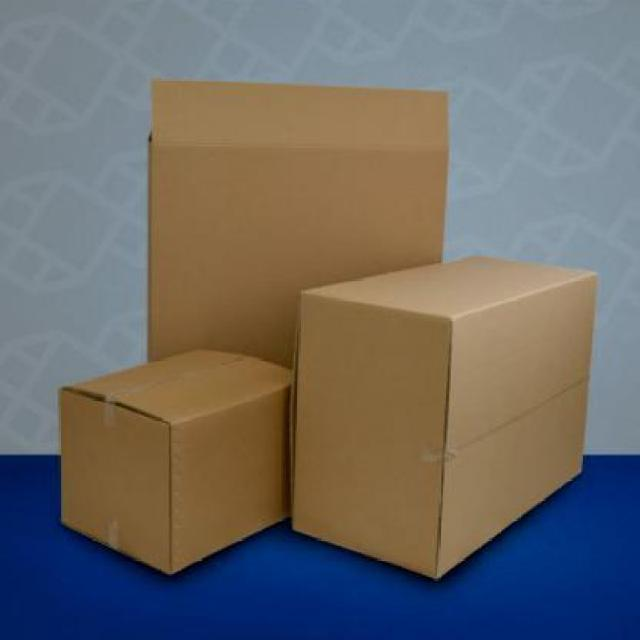box: (278, 246, 610, 586), (141, 72, 454, 396), (49, 339, 297, 586)
